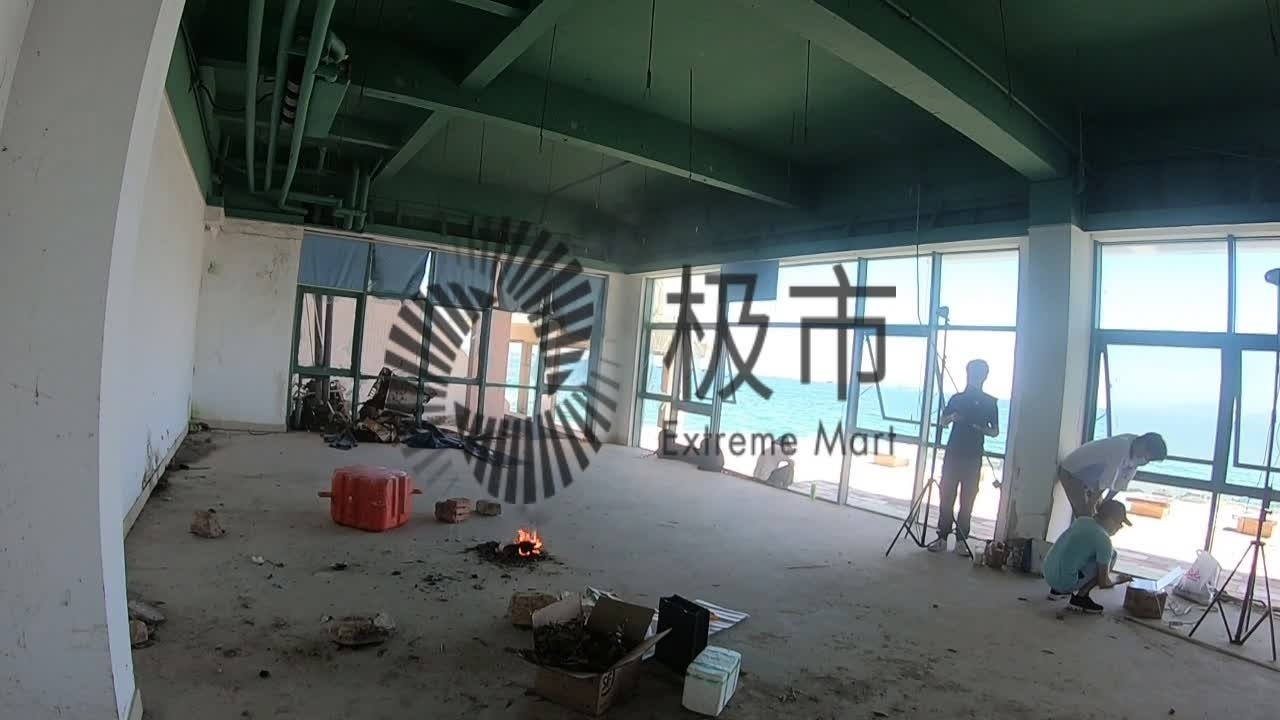fire: (508, 522, 545, 560)
